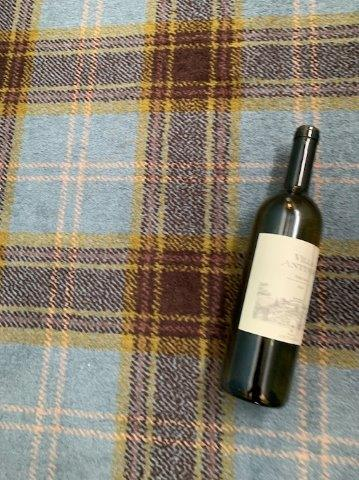botolkaca: (219, 126, 325, 409)
